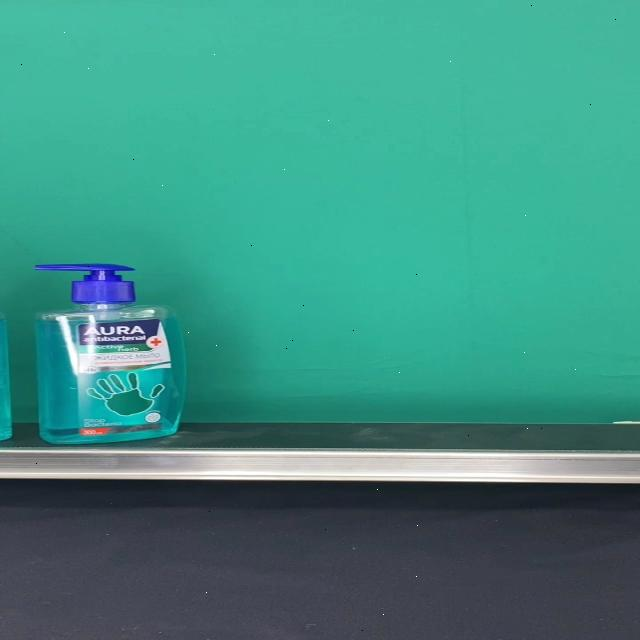Bottle: (34, 264, 187, 444)
Cap: (36, 264, 136, 306)
